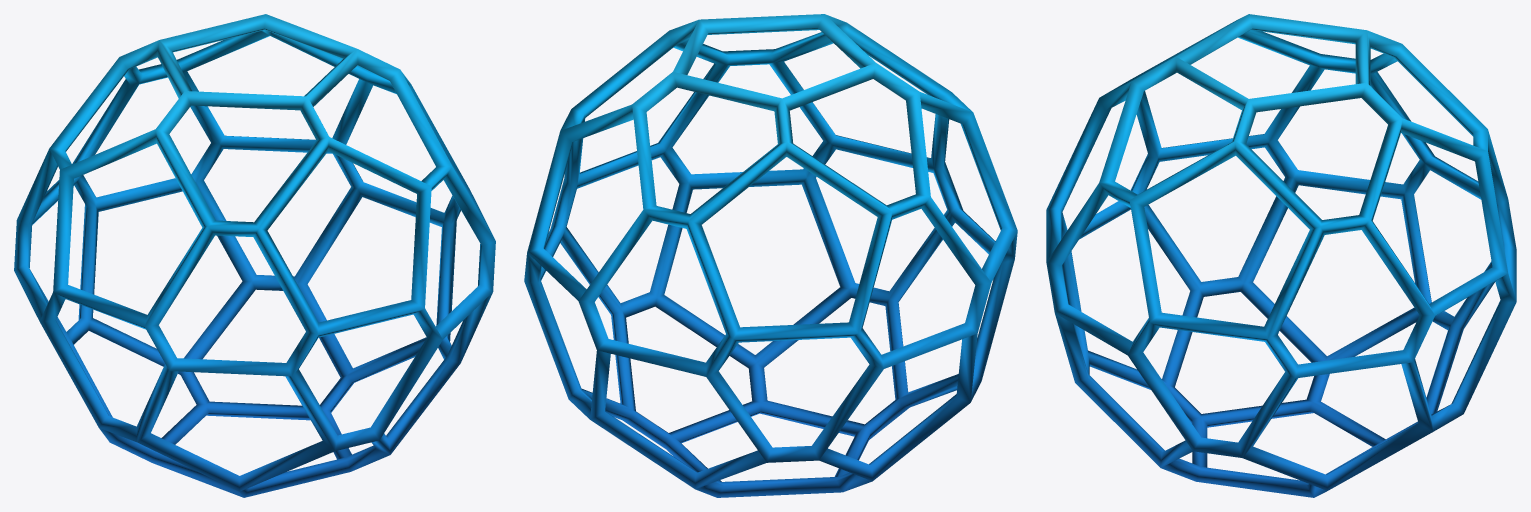
Rendered from terminal_hologram_001.fbx.
The picture shows the model from 3 angles, left to right: view 1: azimuth 30°, elevation 25°; view 2: azimuth 150°, elevation 25°; view 3: azimuth 270°, elevation 25°; orthographic projection. The views are drawn at different scales.
Visible parts, largest first — view 1: terminal_hologram_001; view 2: terminal_hologram_001; view 3: terminal_hologram_001.
Part boxes in pixels (bbox=[...]): terminal_hologram_001: bbox=[14, 14, 495, 497]; terminal_hologram_001: bbox=[524, 14, 1017, 497]; terminal_hologram_001: bbox=[1046, 14, 1516, 497].
Size of the model in its own units: 202 by 196 by 183.
